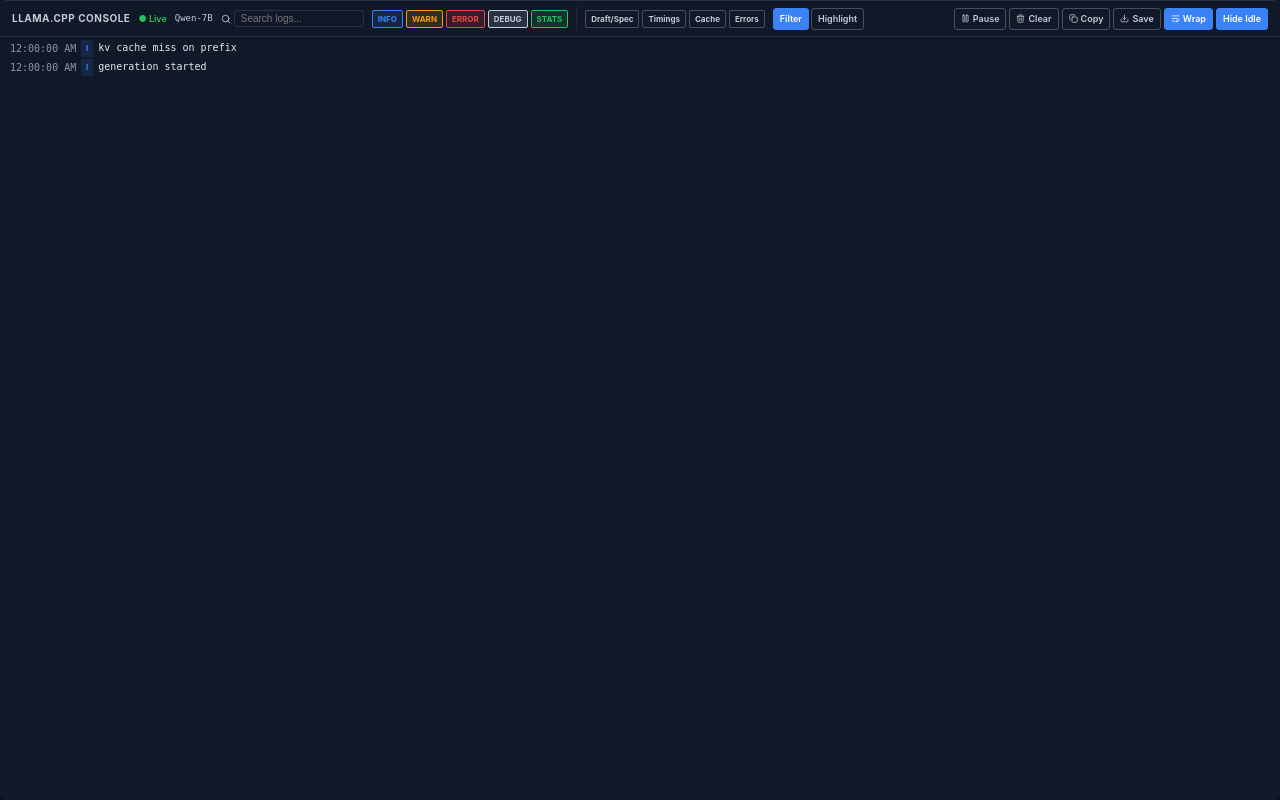
LogConsole preset chip filtering › activating Cache preset hides lines without cache keywords
Expected: the text "generation started" is shown, [98,61,207,72]
Click the button "Cache". click: [707, 18]
box: [689,10,726,28]
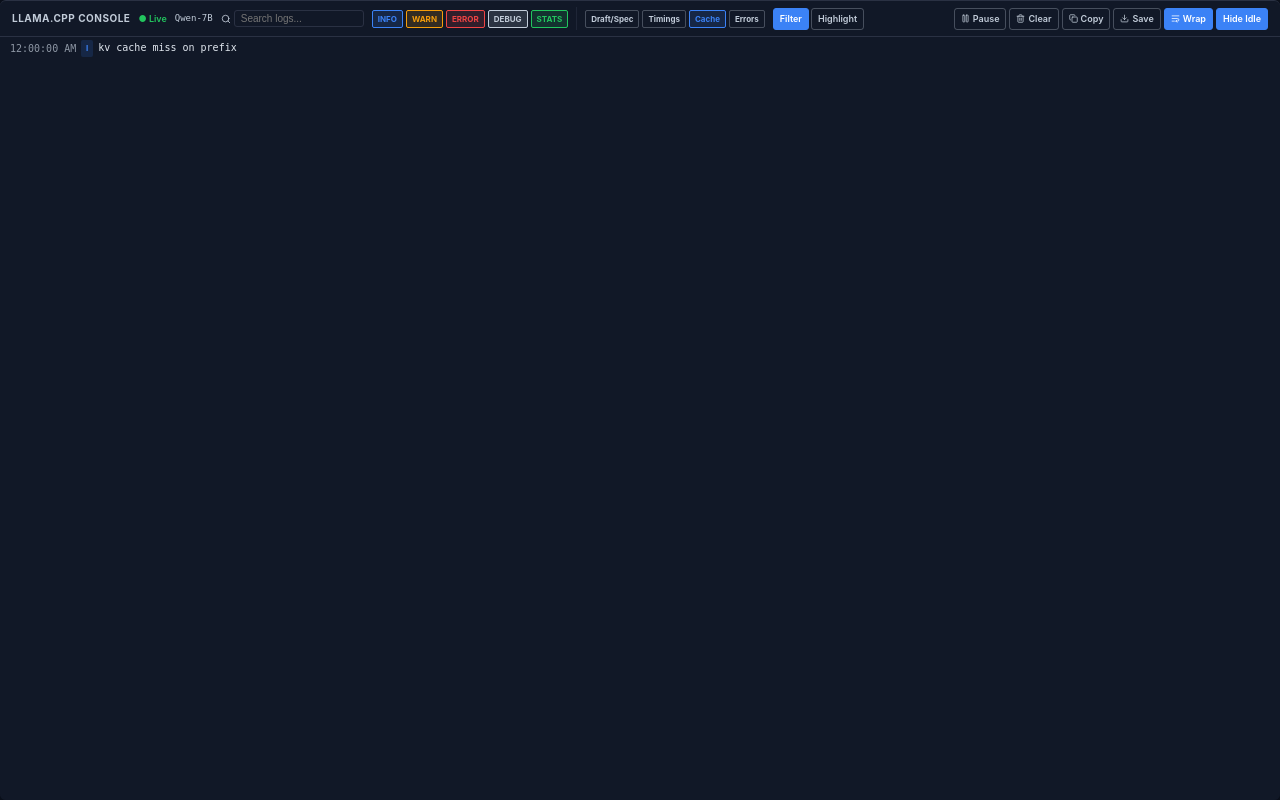
Expected: the text "kv cache miss on prefix" is shown, [98,42,237,53]
Now the text "generation started" is gone
